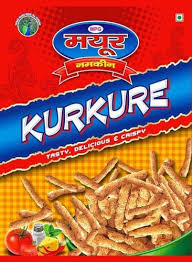kurkure: (22, 139, 189, 256), (21, 72, 172, 151)
plastic: (1, 1, 190, 261)
